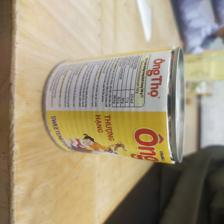Ong_tho: (41, 45, 187, 167)
